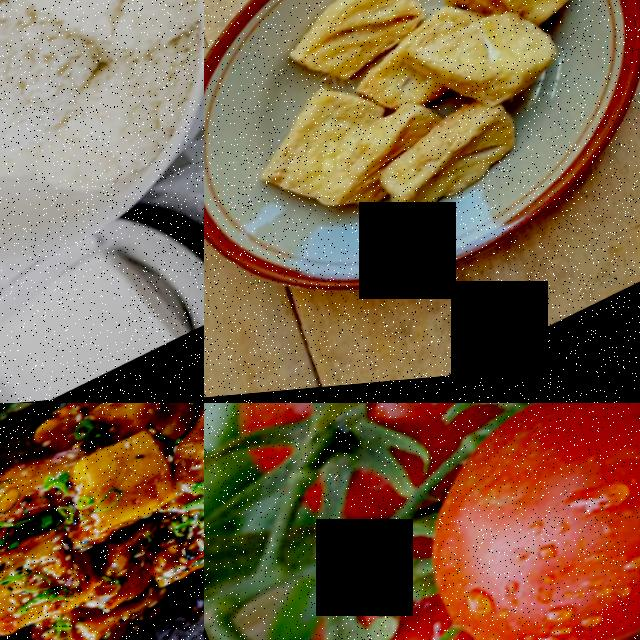tofu: (245, 78, 400, 221), (371, 96, 529, 232), (408, 1, 563, 137), (278, 0, 432, 98), (439, 0, 593, 76)
tomato: (382, 403, 640, 640), (204, 403, 544, 565)
white rice: (0, 0, 117, 217), (12, 62, 167, 216), (4, 0, 202, 99)
